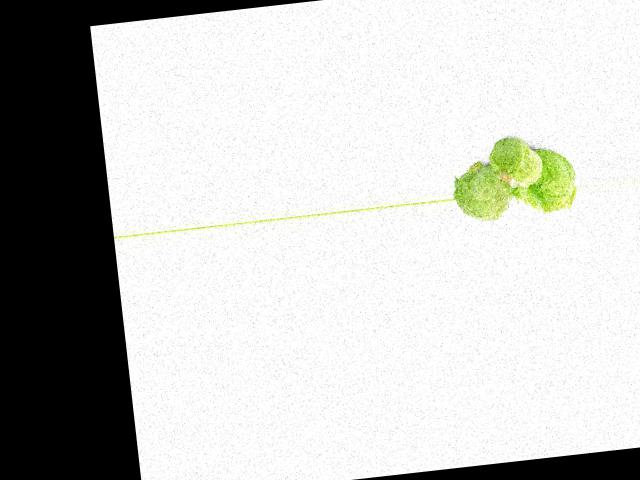lettuce: (517, 149, 575, 212)
